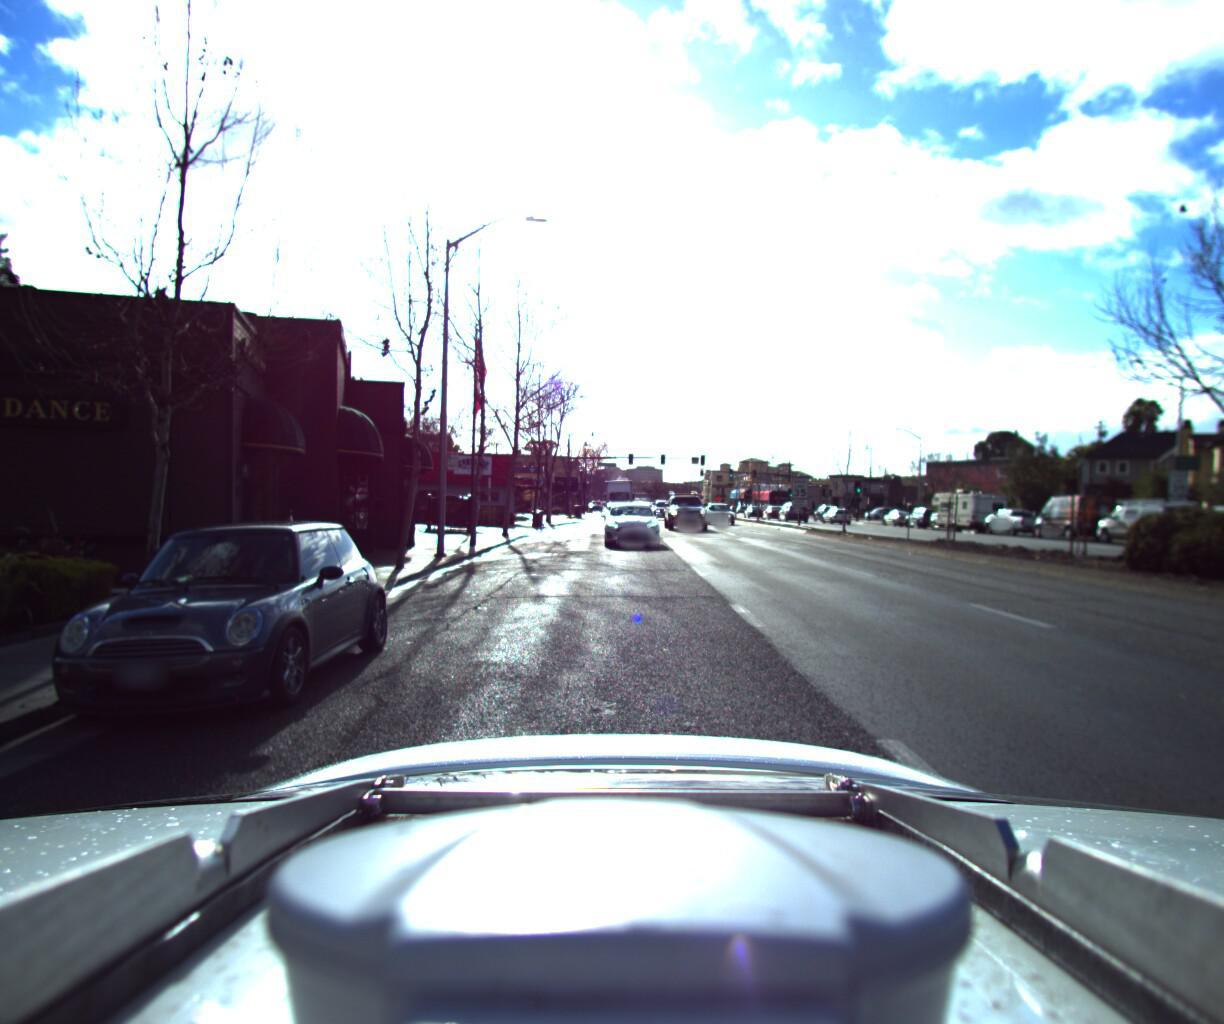car: (4, 507, 401, 759), (1089, 490, 1208, 544), (1025, 487, 1121, 536), (597, 495, 663, 546), (978, 500, 1052, 533), (662, 486, 711, 531), (587, 496, 626, 528), (701, 491, 744, 520), (775, 494, 811, 516), (819, 500, 852, 518), (759, 497, 788, 513)
other_vehicle: (924, 480, 1011, 526)
truck: (600, 474, 633, 515)
